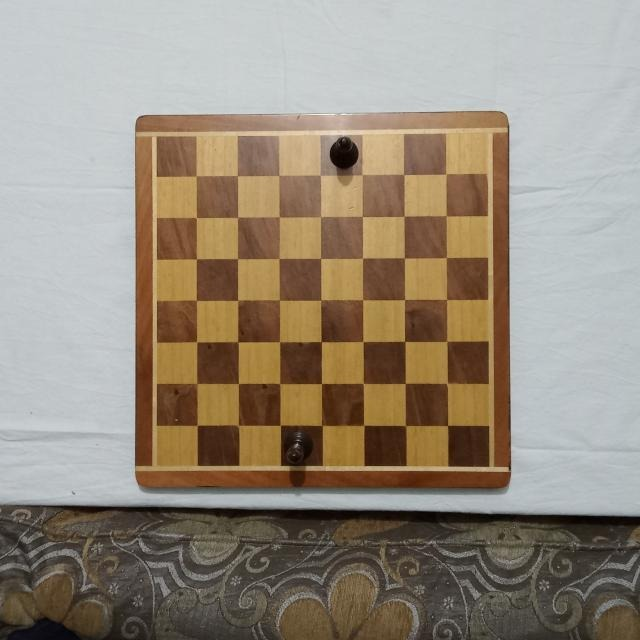black-bishop: (329, 136, 361, 172), (284, 429, 315, 465)
